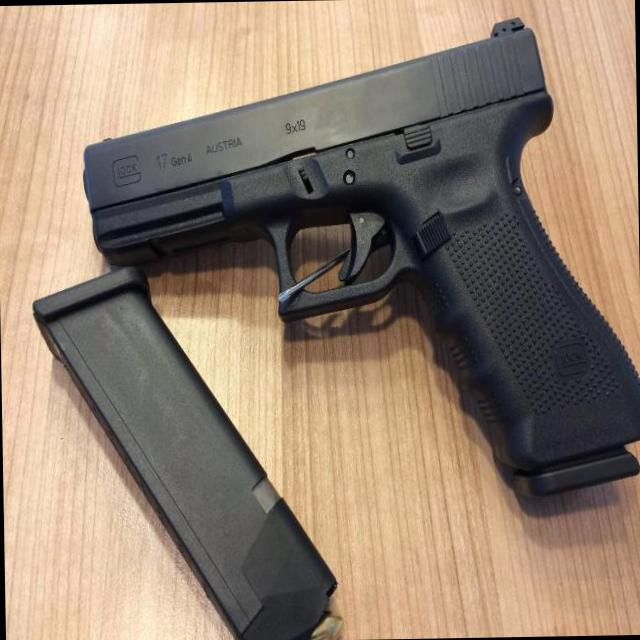Gun: (84, 19, 640, 494)
